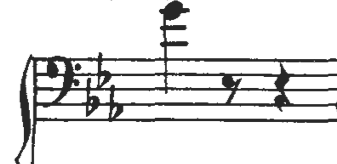bass_clef: (40, 49, 85, 114)
flat: (81, 75, 102, 122), (92, 49, 114, 91), (106, 83, 126, 125)
